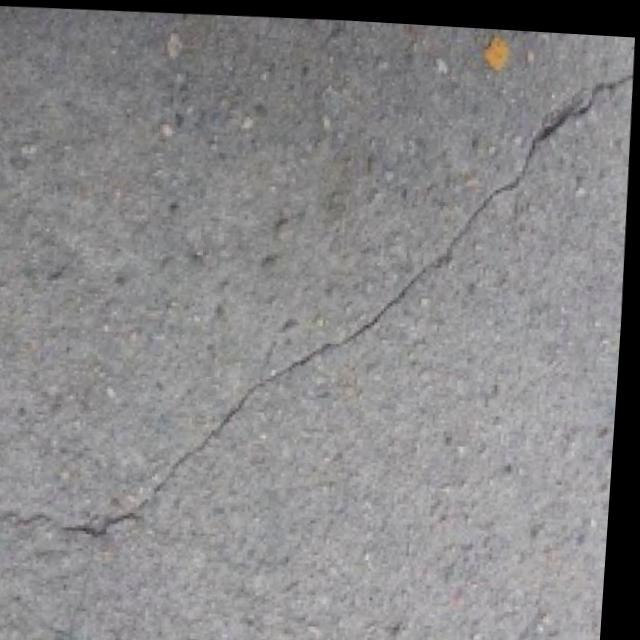Crack: (0, 10, 639, 575)
